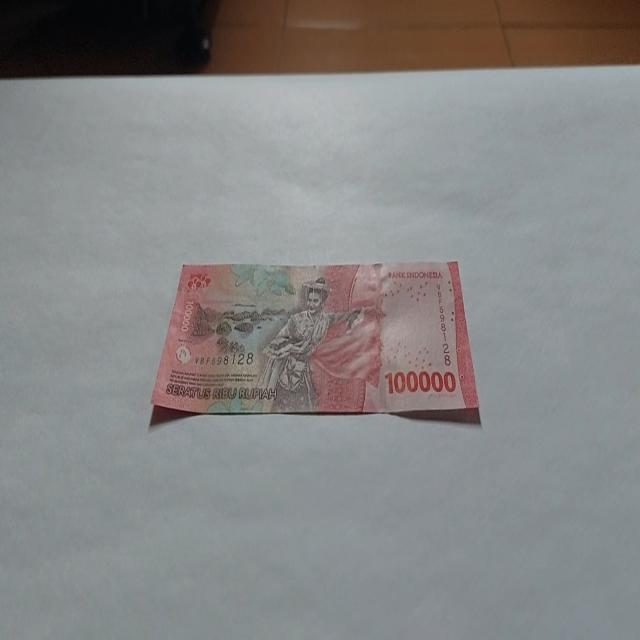seratus ribu rupiah: (149, 258, 481, 424), (254, 274, 364, 412)
